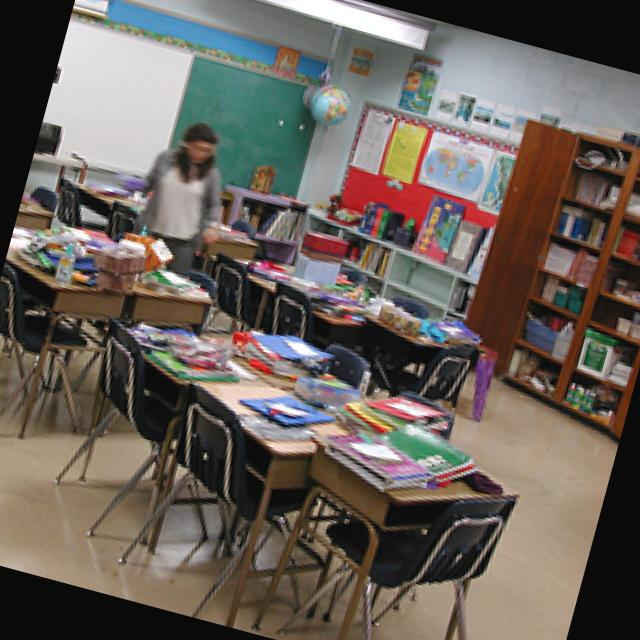person: (118, 111, 245, 284)
